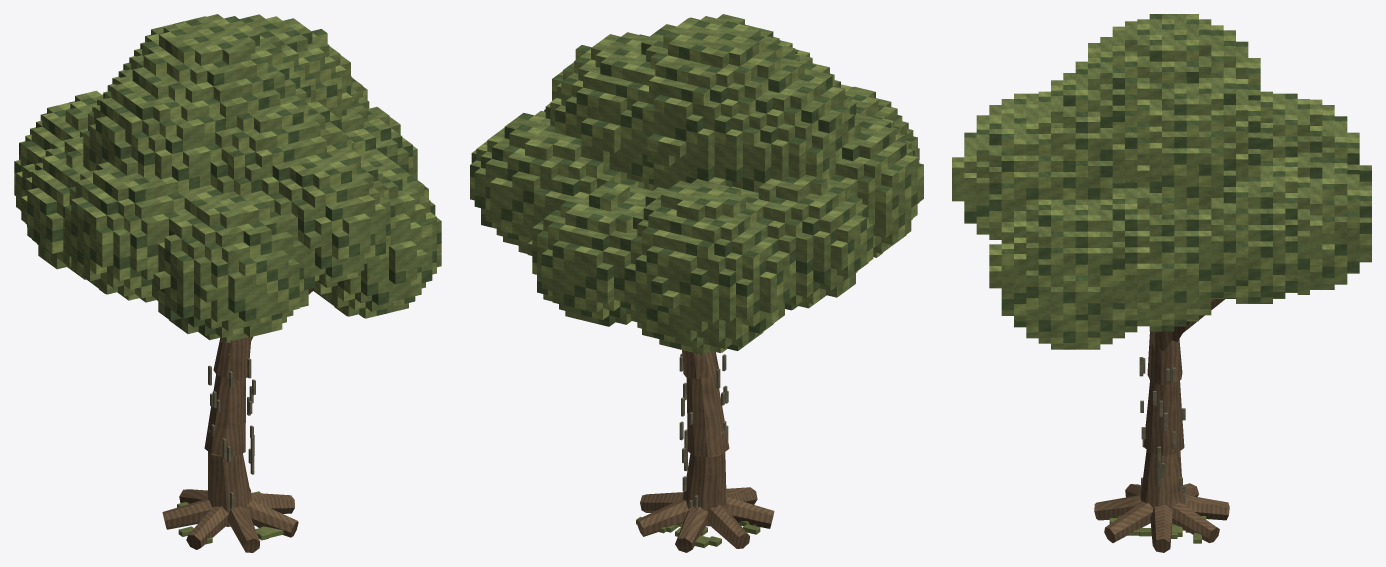
Rendered from SM_Pilot_BroadTree5m.fbx.
3 renders of one model, left to right at view 1: azimuth 30°, elevation 25°; view 2: azimuth 150°, elevation 25°; view 3: azimuth 270°, elevation 25°, orthographic. The views are drawn at different scales.
Visible parts, largest first — view 1: SM_Pilot_BroadTree5m; view 2: SM_Pilot_BroadTree5m; view 3: SM_Pilot_BroadTree5m.
Part boxes in pixels (x1,y1,x2,y2): SM_Pilot_BroadTree5m: (14,14,441,552); SM_Pilot_BroadTree5m: (470,14,923,552); SM_Pilot_BroadTree5m: (952,14,1371,552).
Bounding box in the file's own units: 368 × 391 × 499.
Materials: 6 (6 with a texture image).
